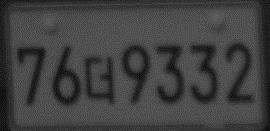2: (223, 41, 255, 104)
3: (188, 42, 222, 104), (152, 42, 186, 103)
6: (49, 44, 82, 105)
7: (13, 44, 49, 107)
9: (119, 42, 151, 104)
더: (83, 54, 117, 104)
